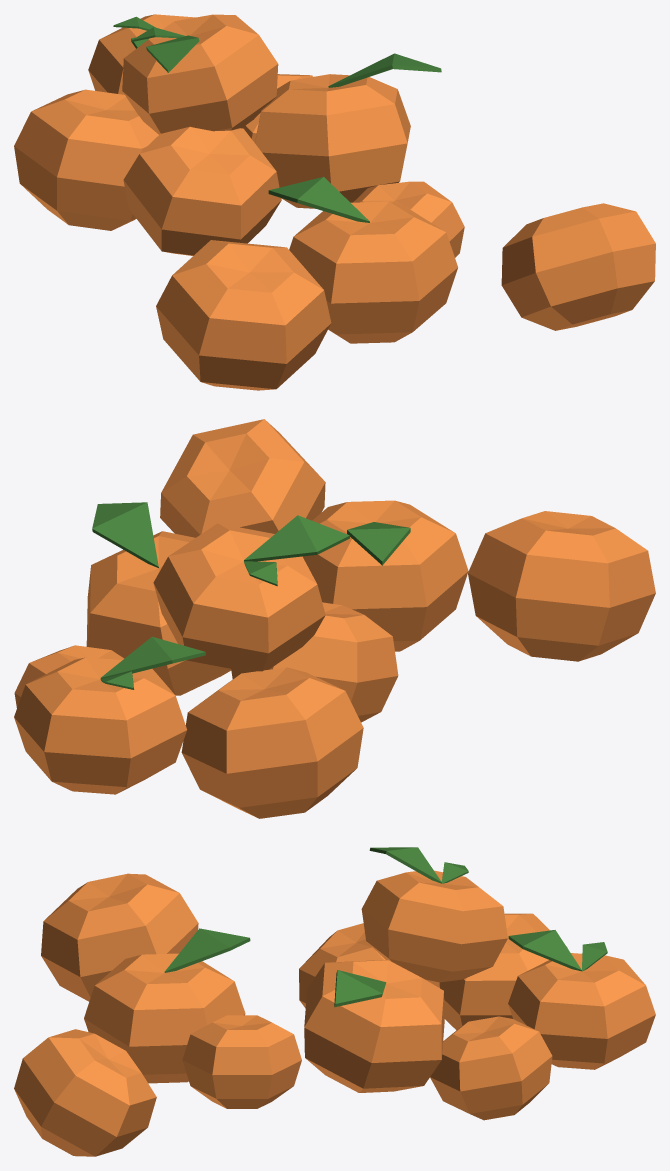
File: Oranges.fbx
The picture shows the model from 3 angles, top to bottom: view 1: azimuth 30°, elevation 25°; view 2: azimuth 150°, elevation 25°; view 3: azimuth 270°, elevation 25°; orthographic projection. The views are drawn at different scales.
Parts seen in each view (by area): view 1: Oranges; view 2: Oranges; view 3: Oranges.
Part boxes in pixels (left/top/right/bottom): Oranges: left=14, top=14, right=655, bottom=390; Oranges: left=14, top=419, right=655, bottom=818; Oranges: left=14, top=847, right=655, bottom=1156.
Size of the model in its own units: 30.99 by 42.52 by 14.9.
